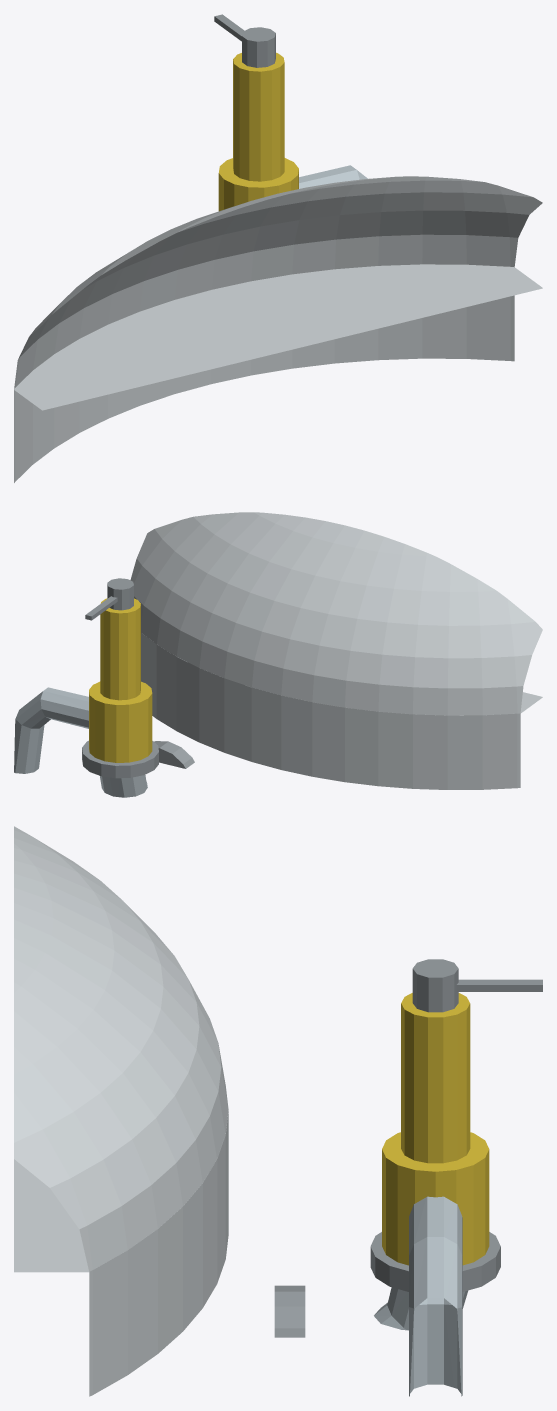
File: cell_64.obj
The picture shows the model from 3 angles, top to bottom: view 1: azimuth 30°, elevation 25°; view 2: azimuth 150°, elevation 25°; view 3: azimuth 270°, elevation 25°; orthographic projection. The views are drawn at different scales.
Bounding box in the file's own units: 1 × 0.5 × 0.69.
